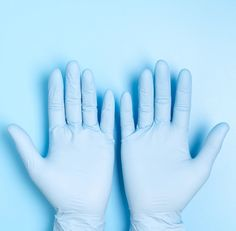gloves: (120, 59, 230, 231), (8, 60, 116, 231)
